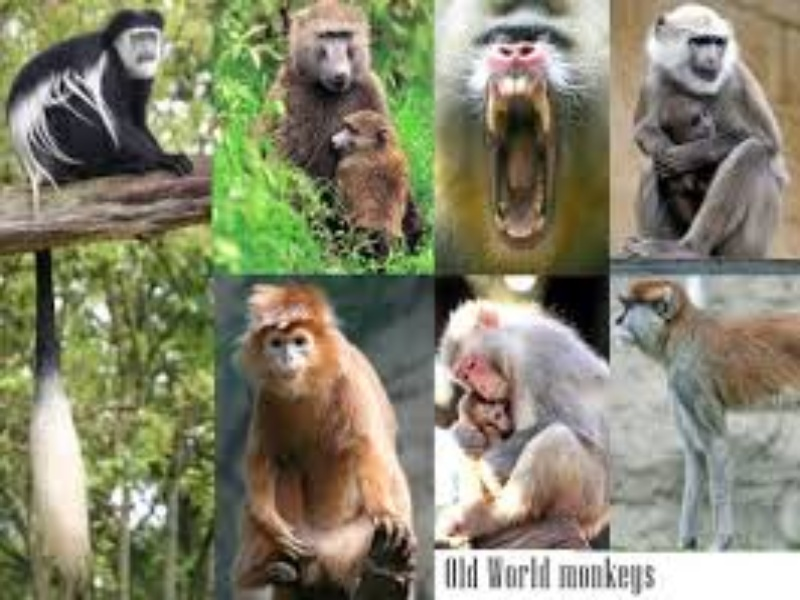monkey: (9, 11, 800, 549)
